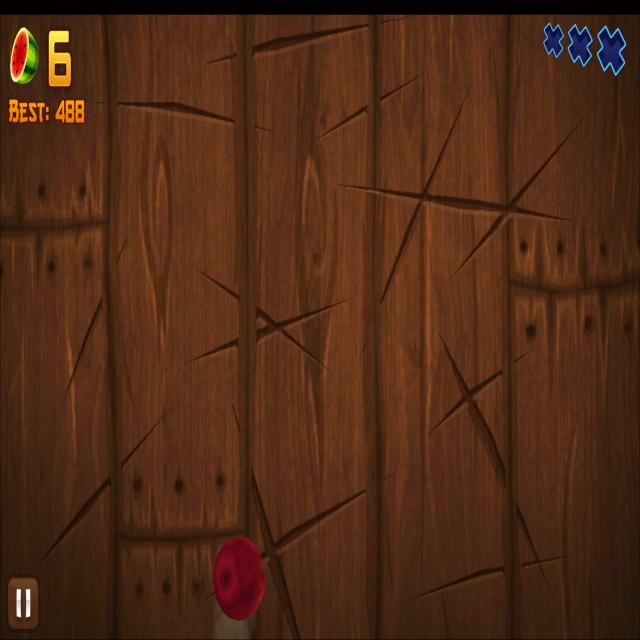fruit: (212, 534, 266, 622)
